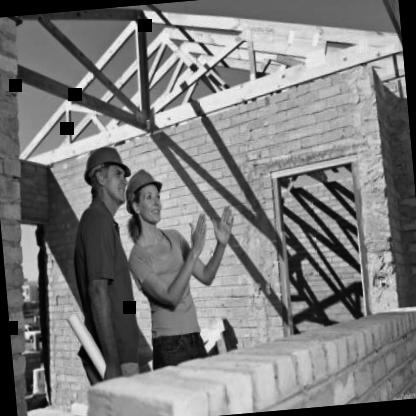helmet: (78, 135, 137, 215), (120, 158, 170, 230)
